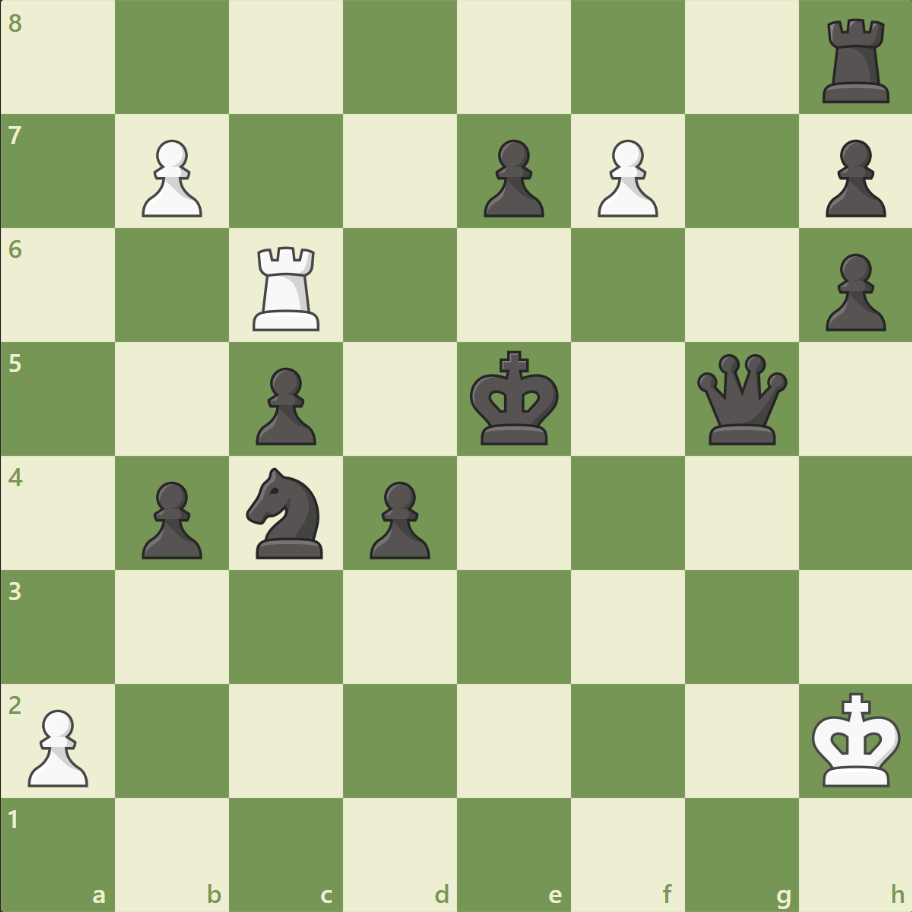K: (806, 685, 906, 793)
P: (133, 132, 208, 223), (20, 700, 95, 791), (588, 132, 662, 223)
R: (246, 239, 329, 336)
k: (465, 344, 565, 452)
n: (238, 461, 335, 564)
p: (474, 132, 549, 223), (247, 359, 322, 450), (133, 473, 208, 564), (815, 132, 889, 223), (815, 246, 889, 337), (361, 473, 435, 564)
q: (691, 349, 790, 449)
r: (814, 12, 897, 109)
